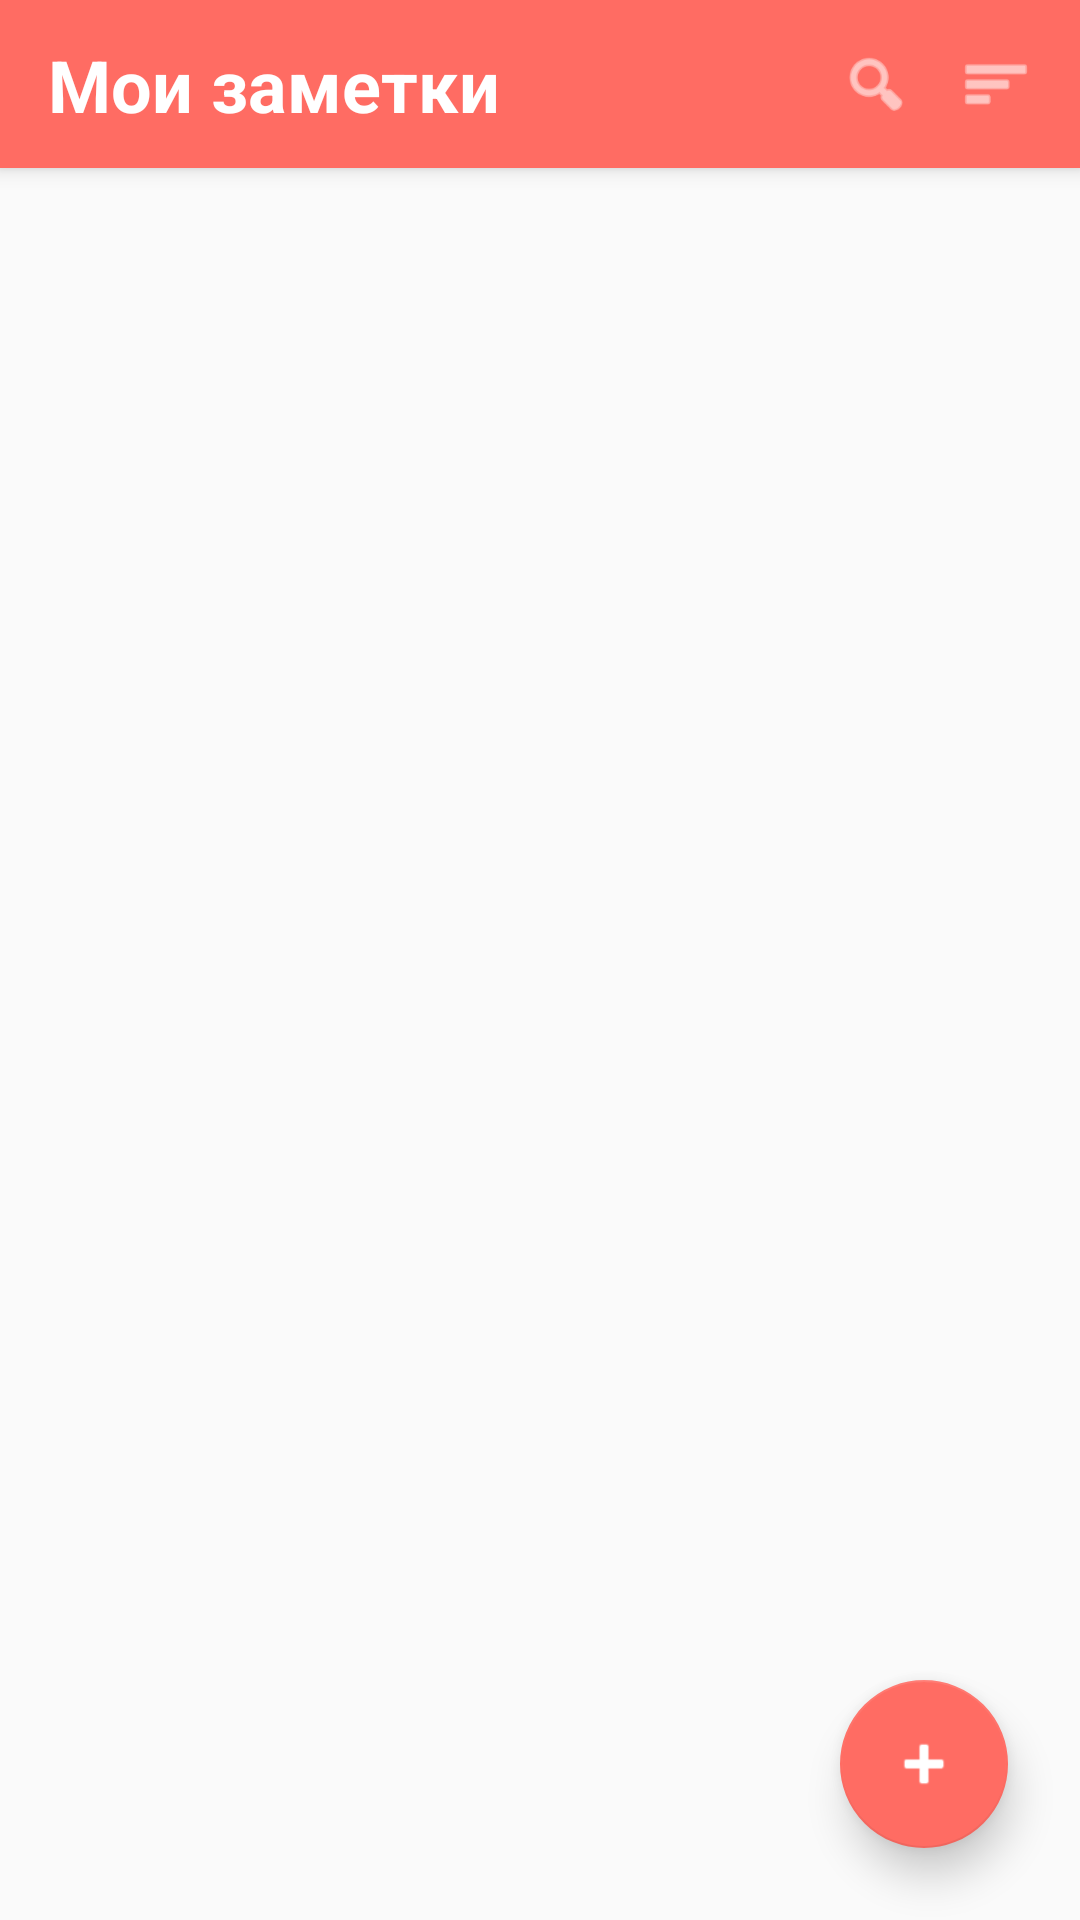

Icons on this 1080 x 1920 Android screen, each with the point to tap as (x,y):
search: (875,84)
sort by size: (996,84)
Добавить заметку: (924,1764)
